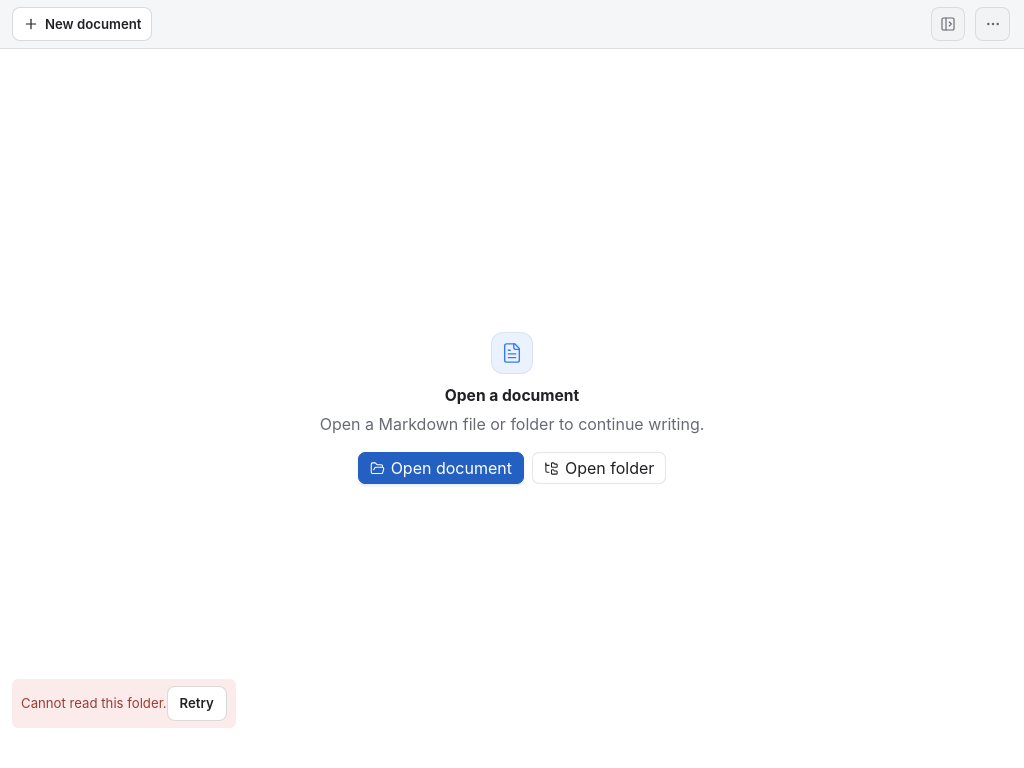
Test case: sidebar folder and recent integration › retries a root failure with sidebar visible: false without removing its folder
Check: the text "Cannot read this folder." is shown, box [21,696,167,712]
Click the button "Retry".
click(197, 704)  # box [167,686,227,721]
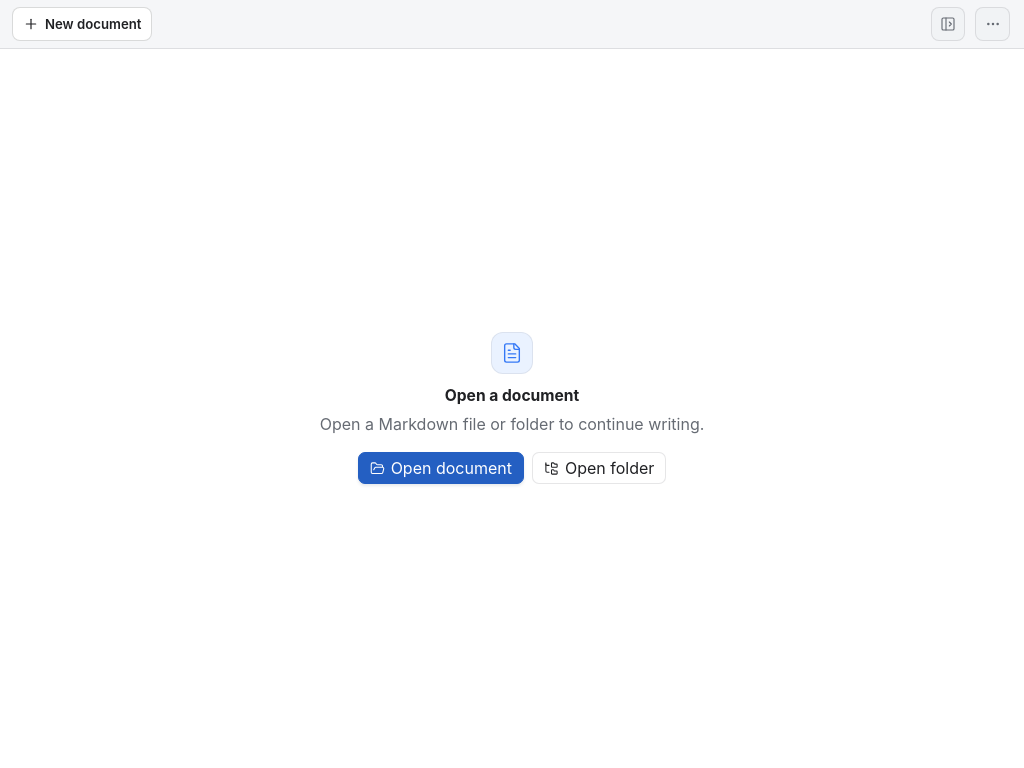
Check: the text "Cannot read this folder." is gone
